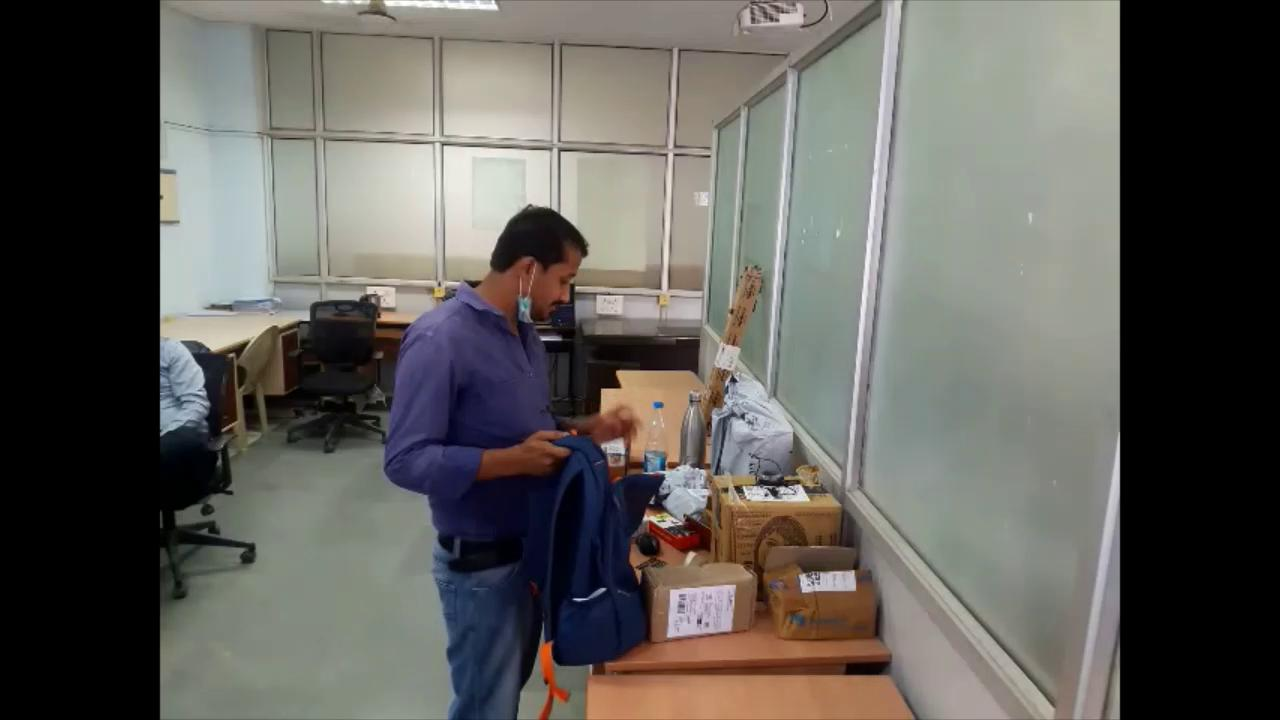shoplifting: (386, 198, 673, 720)
